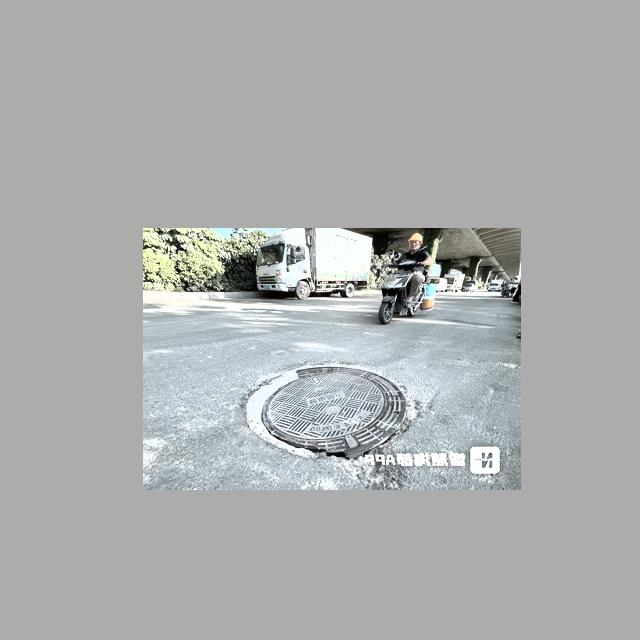circle: (219, 350, 438, 470)
